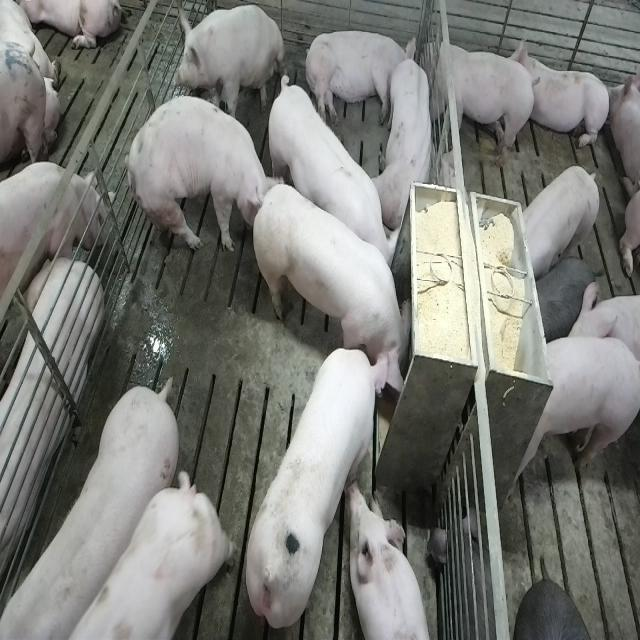Feeding: (244, 342, 393, 630), (256, 170, 420, 390)
Lateral_lying: (0, 252, 101, 620), (303, 27, 416, 128)
Sitting: (172, 5, 286, 128)
Standing: (0, 379, 176, 639), (17, 473, 232, 640), (264, 72, 398, 283), (121, 91, 265, 263), (508, 335, 638, 494), (423, 28, 536, 172), (0, 164, 106, 303), (516, 164, 602, 280)
Sternal_lying: (348, 483, 432, 640), (514, 34, 612, 155), (375, 55, 437, 232)
